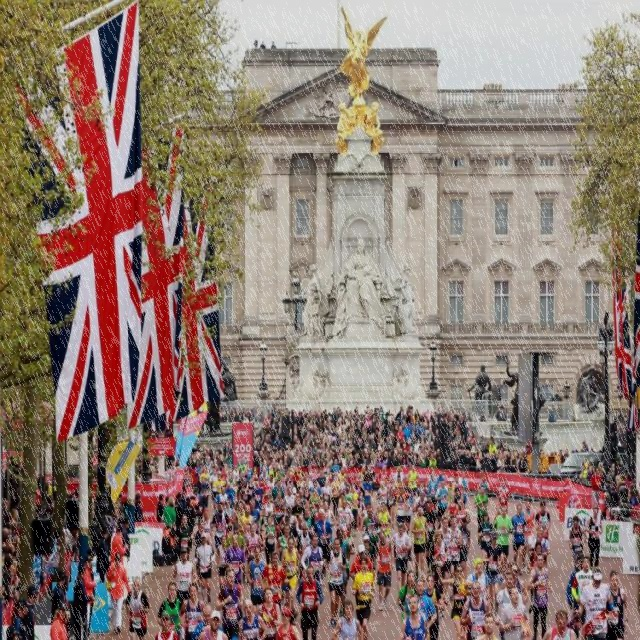pessoa: (302, 235, 420, 405), (253, 404, 414, 496), (330, 5, 390, 164), (410, 404, 486, 474), (0, 453, 22, 639), (602, 424, 640, 526), (29, 472, 56, 603), (502, 360, 545, 434), (576, 567, 620, 639), (436, 562, 476, 639), (570, 351, 610, 422), (56, 500, 94, 570), (526, 551, 554, 639), (213, 563, 244, 639), (294, 563, 324, 639), (106, 550, 132, 636), (350, 554, 376, 639), (325, 536, 347, 630), (458, 580, 492, 639), (602, 569, 630, 639), (71, 558, 95, 639), (484, 434, 532, 474), (570, 556, 596, 628), (124, 573, 152, 639), (404, 577, 438, 631), (498, 585, 532, 639), (170, 545, 198, 610), (280, 534, 302, 616), (258, 548, 286, 612), (178, 581, 208, 639), (300, 534, 324, 606), (492, 503, 514, 580), (391, 522, 414, 595), (482, 530, 504, 606), (194, 530, 216, 604), (422, 574, 447, 639), (374, 531, 394, 612), (538, 438, 602, 463), (185, 440, 232, 474), (526, 539, 547, 615), (246, 545, 268, 617), (410, 503, 430, 582), (156, 580, 184, 634), (255, 585, 283, 639), (506, 502, 526, 576), (334, 526, 350, 617), (330, 598, 365, 639), (428, 502, 448, 572), (396, 568, 420, 626), (237, 597, 270, 639), (401, 594, 432, 638), (584, 506, 604, 572), (464, 358, 492, 404), (444, 514, 464, 578), (313, 506, 335, 564), (105, 492, 144, 524), (500, 561, 529, 604), (566, 552, 586, 614), (520, 497, 536, 574), (541, 607, 579, 639), (82, 554, 96, 639), (191, 604, 225, 639), (422, 500, 438, 574), (223, 534, 245, 586), (361, 504, 380, 562), (474, 484, 491, 548), (494, 569, 524, 605), (568, 514, 588, 568), (389, 483, 411, 532), (197, 506, 216, 562), (361, 503, 380, 559), (466, 556, 490, 600), (274, 604, 304, 639), (325, 495, 340, 565), (85, 546, 96, 639), (95, 522, 111, 584), (348, 542, 374, 580), (210, 522, 252, 545), (210, 500, 230, 548), (457, 517, 472, 580), (50, 569, 66, 626), (232, 458, 253, 501), (8, 598, 30, 639), (198, 609, 228, 639), (110, 522, 131, 564), (218, 358, 238, 402), (216, 534, 230, 596), (340, 524, 355, 580), (154, 610, 182, 639), (224, 523, 247, 558), (433, 478, 449, 528), (476, 510, 496, 550), (393, 494, 413, 534), (312, 494, 392, 504), (182, 495, 196, 551), (179, 495, 198, 535), (50, 600, 69, 639), (340, 552, 356, 598), (476, 610, 501, 639), (161, 528, 181, 564), (246, 522, 264, 562), (216, 404, 252, 424), (451, 496, 467, 540), (328, 470, 342, 520), (402, 487, 416, 536), (296, 522, 315, 558), (566, 605, 586, 639), (349, 481, 361, 537), (272, 495, 284, 551), (252, 495, 266, 543), (422, 495, 438, 536), (260, 492, 278, 528), (190, 518, 206, 558), (335, 497, 355, 529), (120, 516, 132, 568), (316, 476, 333, 512), (534, 500, 552, 534), (429, 533, 448, 565), (377, 500, 392, 540), (292, 495, 312, 525), (280, 582, 298, 615), (438, 516, 454, 552), (456, 470, 470, 510), (26, 584, 36, 639), (323, 500, 336, 542), (162, 496, 178, 530), (590, 466, 602, 510), (578, 462, 602, 484), (530, 525, 550, 551), (160, 522, 178, 550), (175, 512, 193, 540), (496, 478, 510, 514), (361, 473, 374, 510), (276, 523, 292, 553), (374, 478, 390, 508), (198, 473, 211, 509), (406, 463, 420, 496), (222, 480, 236, 509), (252, 478, 264, 510), (216, 483, 230, 509), (248, 497, 262, 523), (414, 488, 428, 514), (239, 503, 255, 525), (362, 532, 375, 559), (208, 467, 218, 502), (352, 504, 362, 538), (414, 490, 427, 516), (282, 506, 297, 528), (282, 486, 296, 509), (156, 491, 166, 523), (290, 495, 306, 515), (414, 478, 430, 498), (244, 477, 256, 502), (164, 450, 179, 470), (372, 504, 382, 534), (338, 474, 352, 495), (260, 37, 278, 53), (213, 473, 226, 495), (446, 495, 459, 517), (174, 492, 184, 520), (198, 465, 212, 485), (160, 524, 170, 552), (272, 478, 284, 501), (451, 472, 464, 493), (188, 473, 200, 495), (282, 514, 292, 540), (353, 476, 366, 496), (428, 470, 438, 496), (526, 544, 536, 570), (392, 464, 406, 482), (343, 484, 354, 506), (222, 498, 234, 518), (272, 489, 285, 507), (378, 464, 390, 482), (261, 478, 272, 496), (478, 474, 490, 490), (336, 597, 346, 616), (66, 488, 80, 501), (237, 498, 246, 518), (302, 484, 312, 502), (436, 468, 447, 482), (388, 504, 393, 534), (495, 404, 503, 422), (264, 512, 274, 526), (294, 483, 302, 498), (310, 525, 318, 535), (504, 561, 510, 574), (163, 495, 169, 507), (225, 473, 232, 480), (317, 500, 323, 508)
